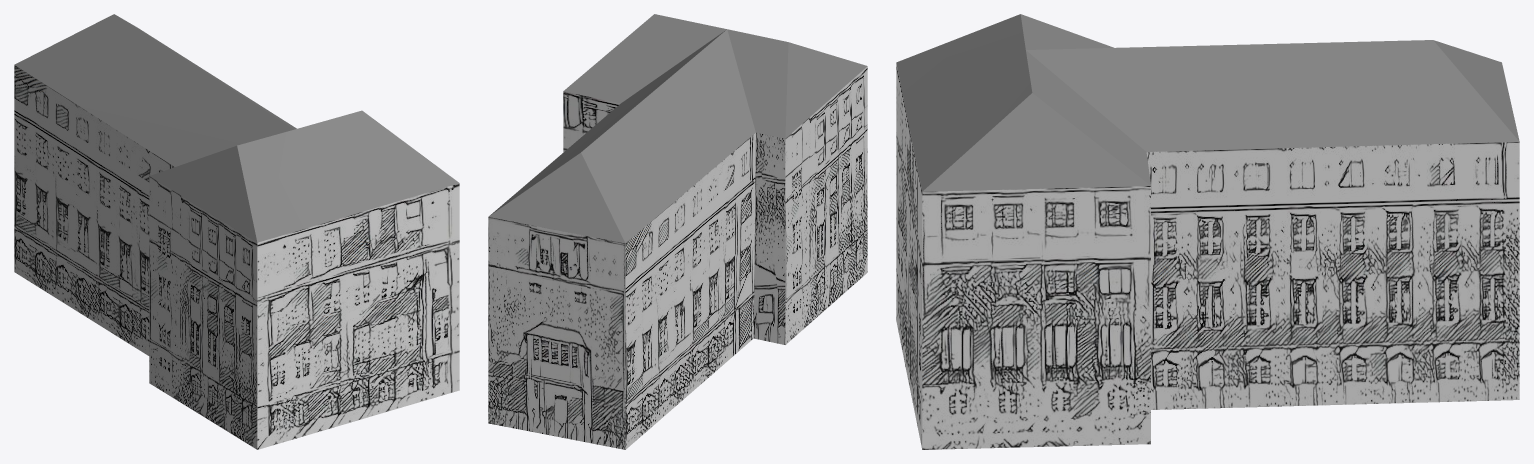
Rendered from Koenig-Bau.gltf.
The picture shows the model from 3 angles, left to right: view 1: azimuth 30°, elevation 25°; view 2: azimuth 150°, elevation 25°; view 3: azimuth 270°, elevation 25°; orthographic projection. The views are drawn at different scales.
Parts seen in each view (by area): view 1: Dach.1; view 2: Dach.1; view 3: Dach.1.
Part boxes in pixels (x1=…): Dach.1: x1=14, y1=14, x2=459, y2=449; Dach.1: x1=488, y1=14, x2=867, y2=449; Dach.1: x1=896, y1=14, x2=1519, y2=449.
Size of the model in its own units: 22.34 by 24.68 by 42.94.
9 materials, 8 textured.
